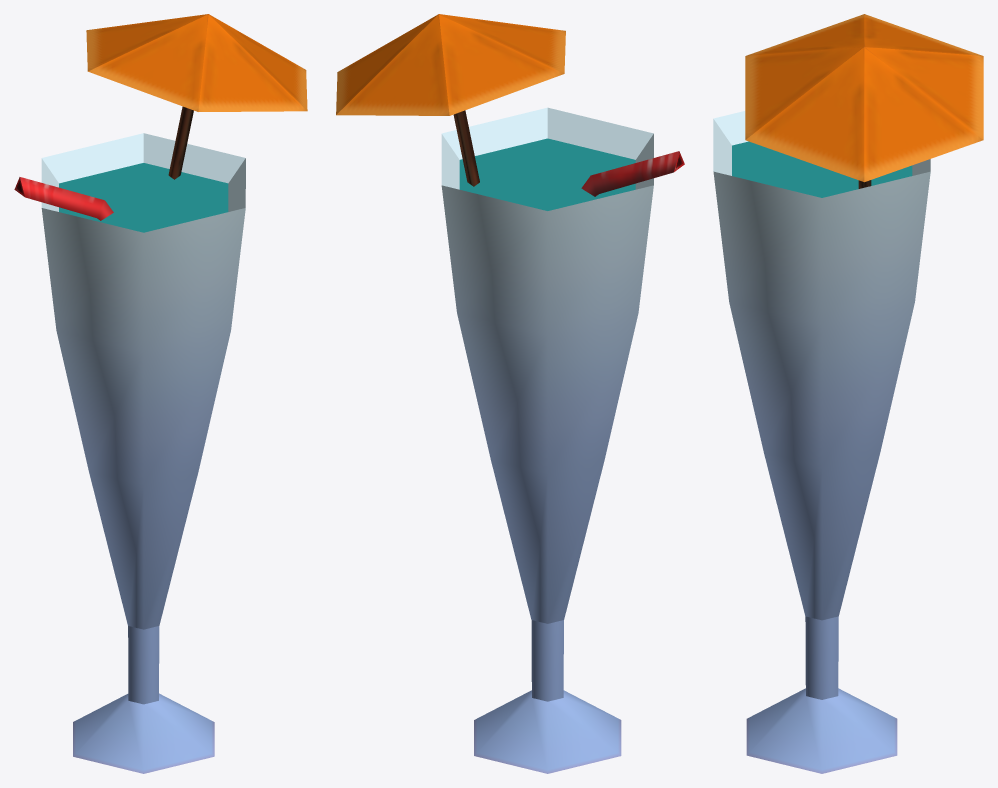
Rendered from ETC0610017.fbx.
3 views of the same model, side by side, from view 1: azimuth 30°, elevation 25°; view 2: azimuth 150°, elevation 25°; view 3: azimuth 270°, elevation 25° (orthographic). The views are drawn at different scales.
Parts seen in each view (by area): view 1: smETC0610017; view 2: smETC0610017; view 3: smETC0610017.
Boxes of the visible parts, <box> form: smETC0610017: <box>14,14,307,773</box>; smETC0610017: <box>336,14,684,773</box>; smETC0610017: <box>713,14,983,773</box>.
Bounding box in the file's own units: 16.53 × 35.44 × 11.81.
1 material, 1 textured.
